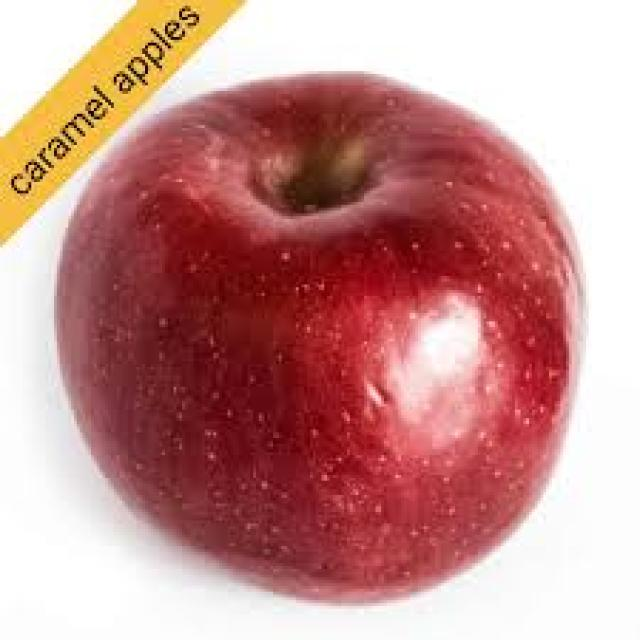apple: (50, 59, 596, 612)
